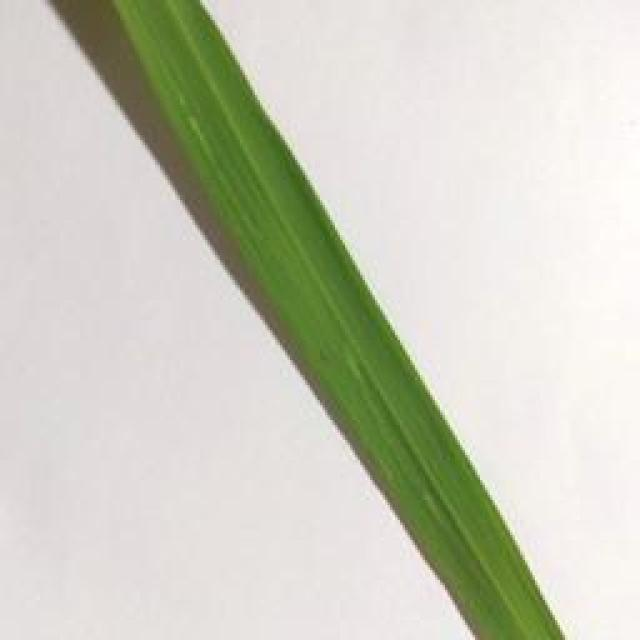Healthy-Plant: (164, 156, 418, 352), (93, 0, 315, 170), (270, 341, 506, 497), (355, 477, 575, 640)
